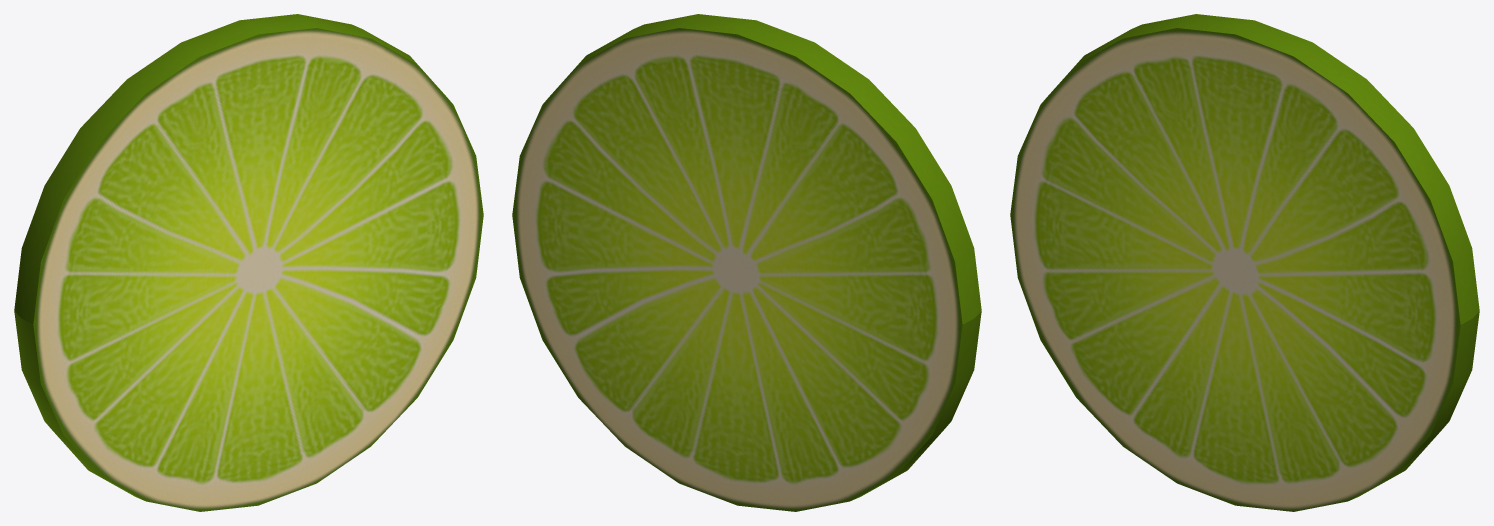
Rendered from LimeSlice_1.fbx.
3 views of the same model, side by side, from view 1: azimuth 30°, elevation 25°; view 2: azimuth 150°, elevation 25°; view 3: azimuth 330°, elevation 25° (orthographic).
Parts seen in each view (by area): view 1: LimeSlice_1; view 2: LimeSlice_1; view 3: LimeSlice_1.
Boxes of the visible parts, box(x1,y1,x2,y2) form: LimeSlice_1: box(14, 14, 483, 511); LimeSlice_1: box(512, 14, 981, 511); LimeSlice_1: box(1010, 14, 1479, 511).
Bounding box in the file's own units: 0.0456 × 0.0456 × 0.00341.
Materials: 1 (1 with a texture image).
